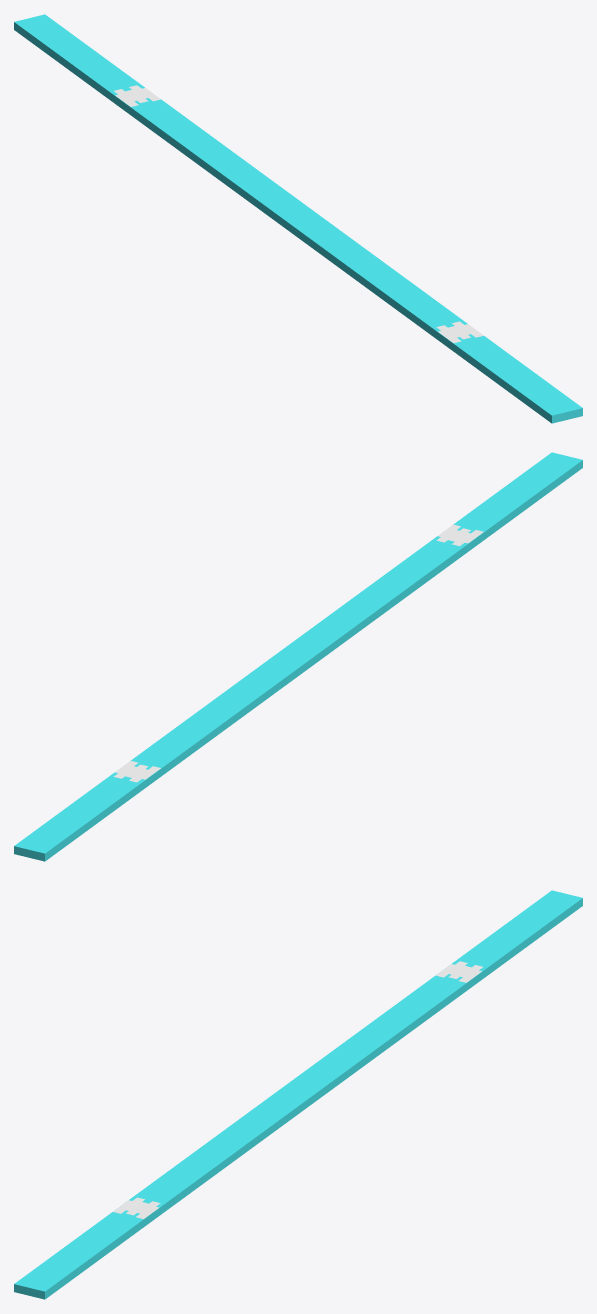
Rendered from SM_water1.fbx.
3 renders of one model, top to bottom at view 1: azimuth 30°, elevation 25°; view 2: azimuth 150°, elevation 25°; view 3: azimuth 330°, elevation 25°, orthographic.
Parts seen in each view (by area): view 1: Water1; view 2: Water1; view 3: Water1.
Boxes of the visible parts, x1,y1,x2,y2 form: Water1: [14, 14, 582, 423]; Water1: [14, 452, 582, 861]; Water1: [14, 890, 582, 1299].
Bounding box in the file's own units: 100 × 25 × 3000.
